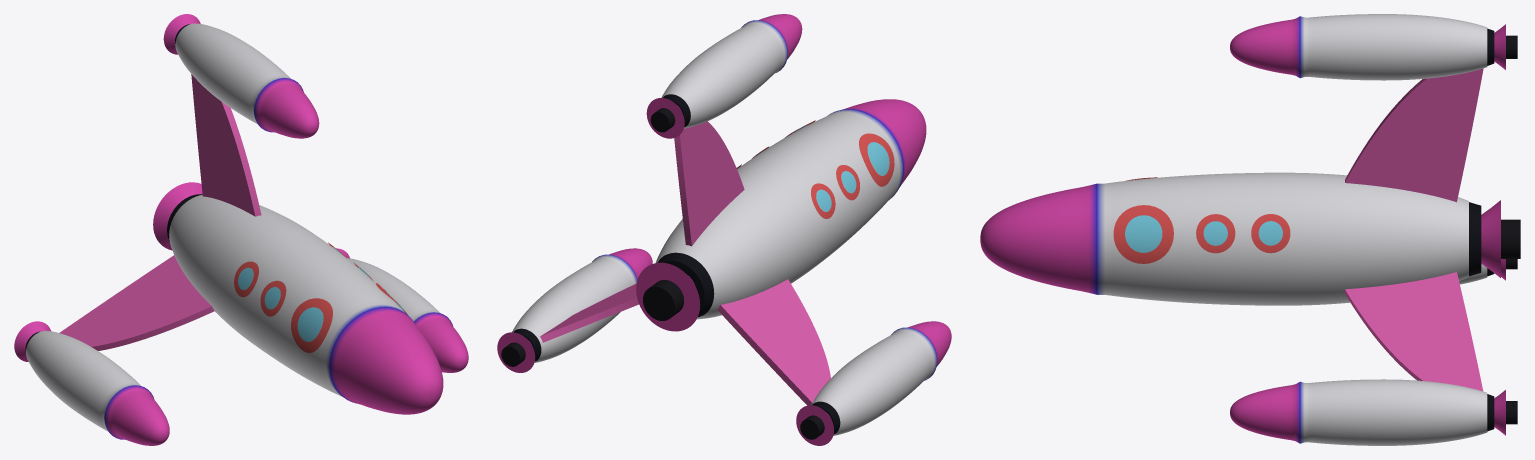
File: rocket-slender.obj
3 renders of one model, left to right at view 1: azimuth 30°, elevation 25°; view 2: azimuth 150°, elevation 25°; view 3: azimuth 270°, elevation 25°, orthographic. The views are drawn at different scales.
Visible parts, largest first — view 1: rocket; view 2: rocket; view 3: rocket.
Part boxes in pixels (<box>): rocket: <box>14,14,468,445</box>; rocket: <box>497,14,951,445</box>; rocket: <box>980,14,1520,445</box>.
Bounding box in the file's own units: 143 × 127 × 179.
